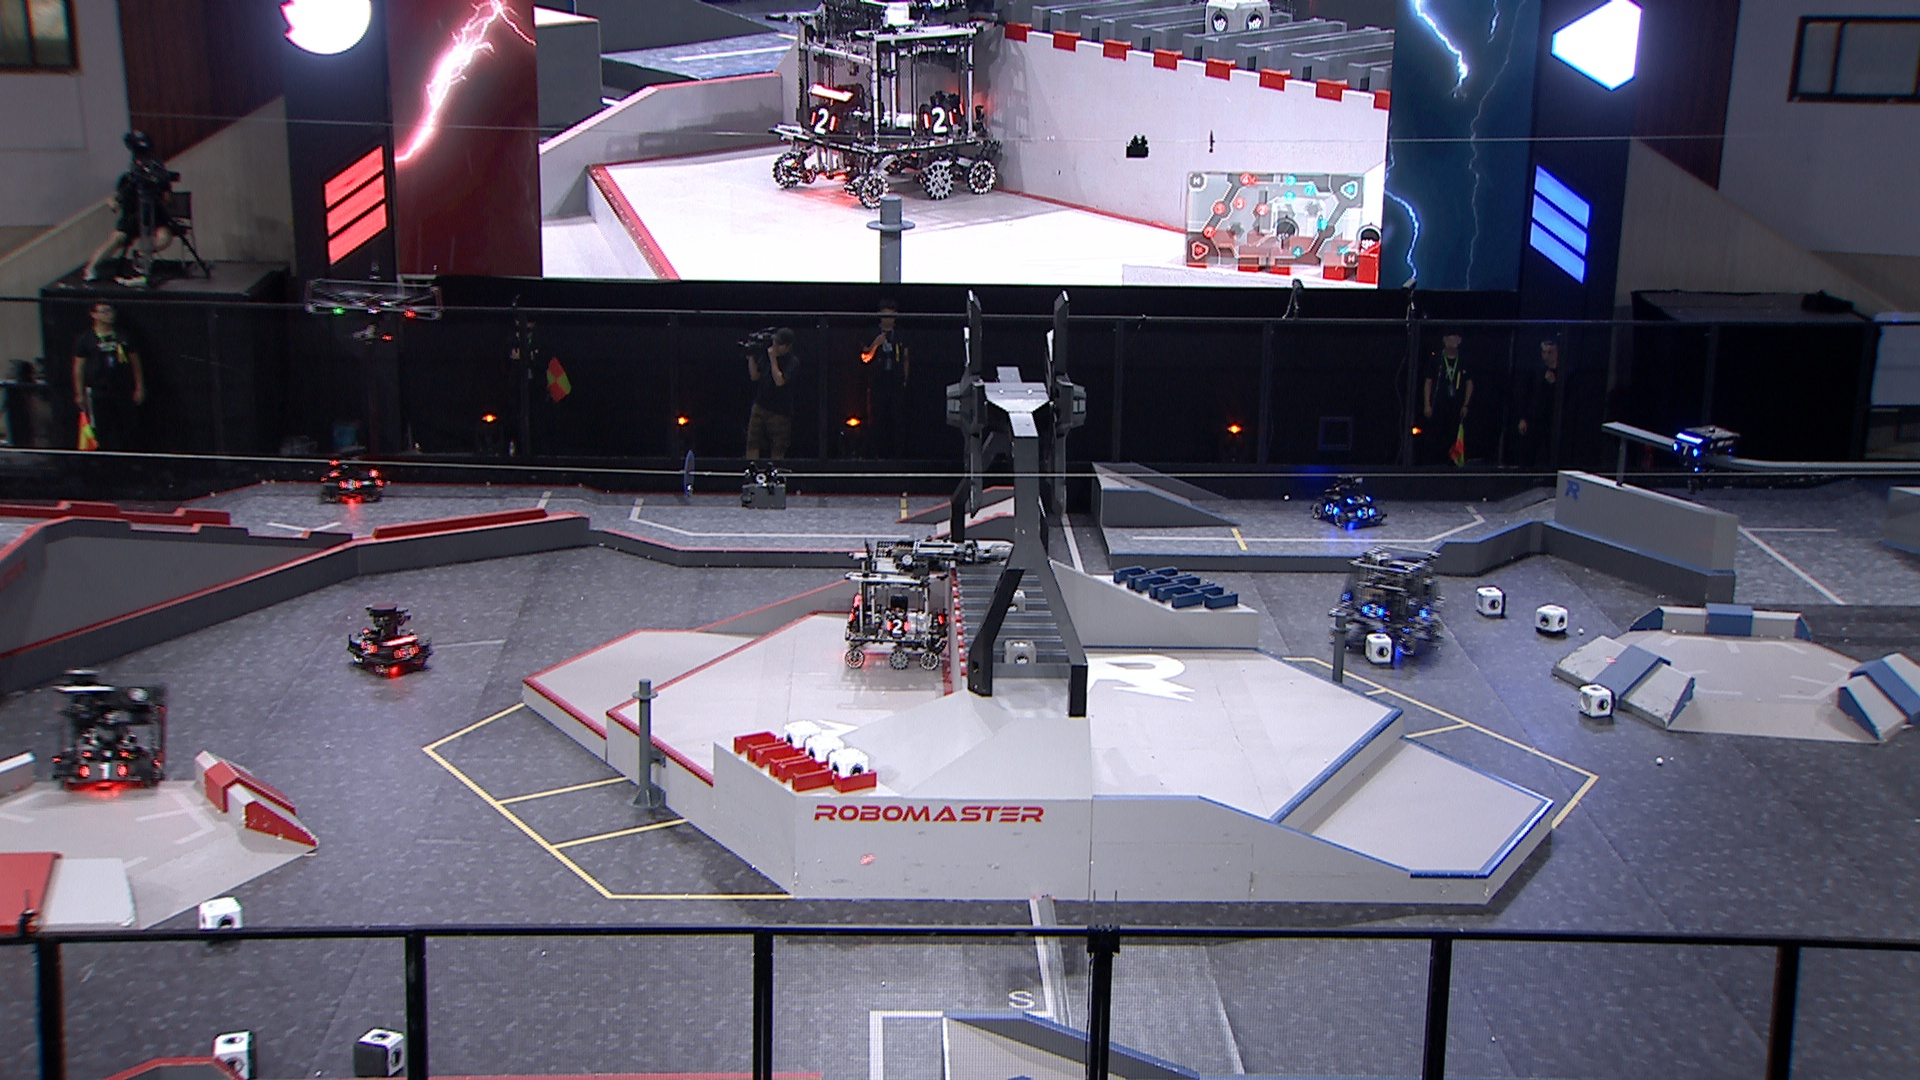armor: (78, 761, 129, 782), (82, 746, 131, 760), (392, 642, 419, 661), (1669, 440, 1698, 458), (1361, 603, 1387, 621), (884, 618, 910, 636), (357, 638, 378, 655), (1418, 603, 1436, 621), (338, 477, 363, 491), (1353, 505, 1375, 520), (1346, 493, 1370, 505), (1323, 501, 1338, 517)
car: (49, 670, 167, 789), (843, 538, 945, 670), (1327, 542, 1444, 654), (344, 600, 436, 676), (1311, 473, 1390, 531), (319, 444, 389, 502)
ignore: (765, 0, 1000, 208)
watcher: (1669, 425, 1735, 495)
